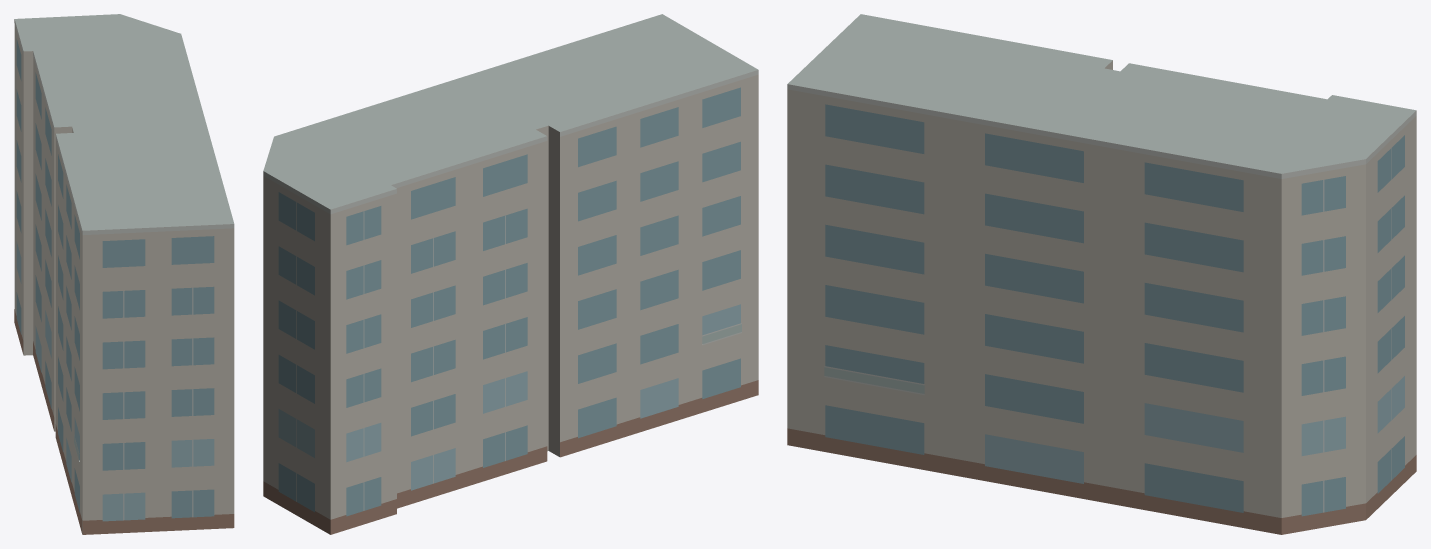
The model's file is survey-upis-32563558.glb.
3 renders of one model, left to right at view 1: azimuth 30°, elevation 25°; view 2: azimuth 150°, elevation 25°; view 3: azimuth 270°, elevation 25°, orthographic. The views are drawn at different scales.
Parts seen in each view (by area): view 1: survey-upis-32563558.tmp; view 2: survey-upis-32563558.tmp; view 3: survey-upis-32563558.tmp.
Part boxes in pixels (<box>): survey-upis-32563558.tmp: <box>14,14,234,534</box>; survey-upis-32563558.tmp: <box>263,14,758,534</box>; survey-upis-32563558.tmp: <box>787,14,1416,534</box>.
Bounding box in the file's own units: 15.96 × 16.8 × 26.55.
